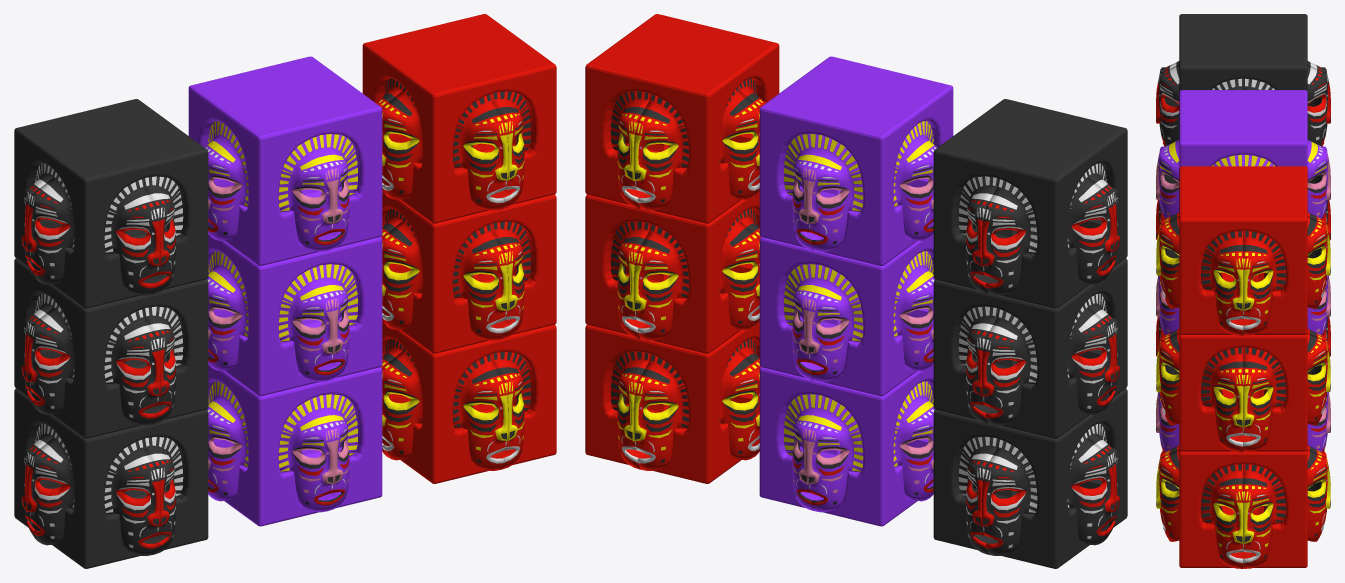
Rendered from PillarsBlack.fbx.
The picture shows the model from 3 angles, left to right: view 1: azimuth 30°, elevation 25°; view 2: azimuth 150°, elevation 25°; view 3: azimuth 270°, elevation 25°; orthographic projection. The views are drawn at different scales.
Parts seen in each view (by area): view 1: BlackCube_3, RedCube_3, PurpleCube_3, BlackCube_2, BlackCube_1, RedCube_1, PurpleCube_1, PurpleCube_2, RedCube_2; view 2: BlackCube_3, RedCube_3, PurpleCube_3, BlackCube_2, BlackCube_1, RedCube_1, PurpleCube_1, PurpleCube_2, RedCube_2; view 3: RedCube_3, RedCube_2, RedCube_1, BlackCube_3, PurpleCube_3, PurpleCube_2, PurpleCube_1, BlackCube_2, BlackCube_1.
Part boxes in pixels (left/top/right/bottom): BlackCube_3: left=14, top=99, right=208, bottom=308; RedCube_3: left=362, top=14, right=556, bottom=223; PurpleCube_3: left=188, top=56, right=382, bottom=265; BlackCube_2: left=14, top=258, right=208, bottom=438; BlackCube_1: left=14, top=388, right=208, bottom=568; RedCube_1: left=381, top=321, right=556, bottom=483; PurpleCube_1: left=207, top=364, right=382, bottom=526; PurpleCube_2: left=207, top=234, right=382, bottom=396; RedCube_2: left=381, top=191, right=556, bottom=353; BlackCube_3: left=933, top=99, right=1127, bottom=308; RedCube_3: left=585, top=14, right=779, bottom=223; PurpleCube_3: left=759, top=56, right=953, bottom=265; BlackCube_2: left=933, top=258, right=1127, bottom=438; BlackCube_1: left=933, top=388, right=1127, bottom=568; RedCube_1: left=585, top=321, right=760, bottom=483; PurpleCube_1: left=759, top=364, right=934, bottom=526; PurpleCube_2: left=759, top=234, right=934, bottom=396; RedCube_2: left=585, top=191, right=760, bottom=353; RedCube_3: left=1156, top=166, right=1330, bottom=335; RedCube_2: left=1156, top=329, right=1330, bottom=452; RedCube_1: left=1156, top=445, right=1330, bottom=568; BlackCube_3: left=1156, top=14, right=1330, bottom=146; PurpleCube_3: left=1156, top=90, right=1330, bottom=218; PurpleCube_2: left=1156, top=275, right=1330, bottom=334; PurpleCube_1: left=1156, top=392, right=1330, bottom=451; BlackCube_2: left=1156, top=200, right=1330, bottom=239; BlackCube_1: left=1156, top=316, right=1330, bottom=356.
Size of the model in its own units: 2079 by 1500 by 680.
